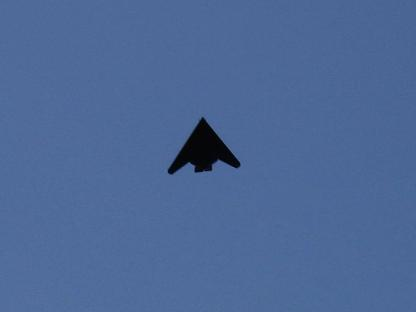E7: (169, 116, 242, 174)
